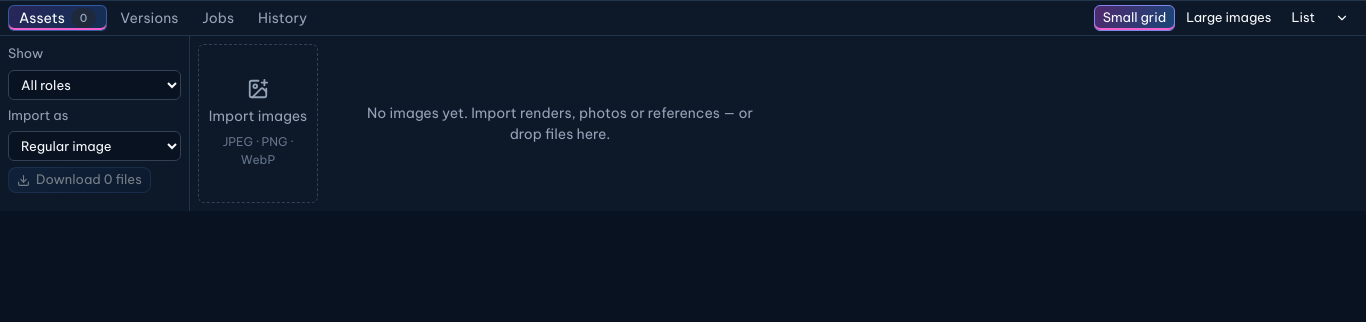
Test case: asset tray view preference › switches the tray between thumbnail and list views
The image size is (1366, 322).
Click the button "List" at (1303, 18), box [1282,5,1324,31]
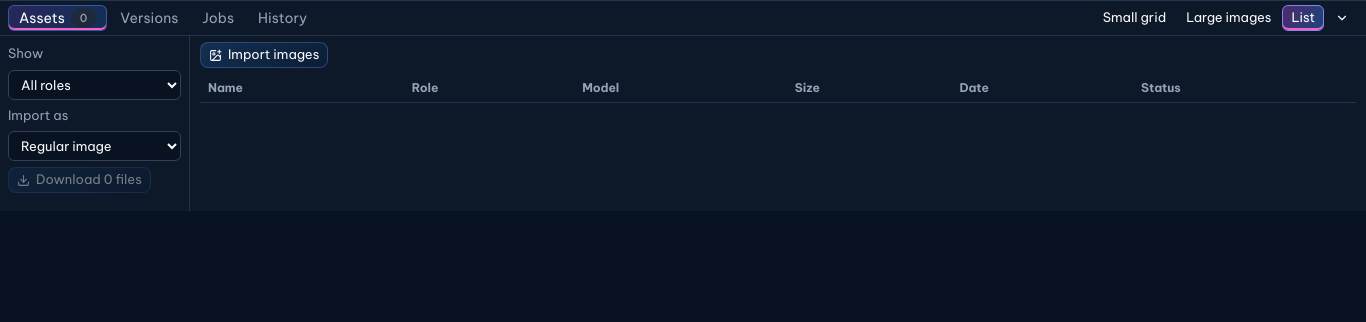
Expected: the table named "Project assets" is shown, [200,74,1356,103]
Expected: the column heading "Name" is shown, [200,74,404,102]
Expected: the column heading "Role" is shown, [404,74,574,102]
Click the button "Large images" at (1229, 18), box [1177,5,1280,31]
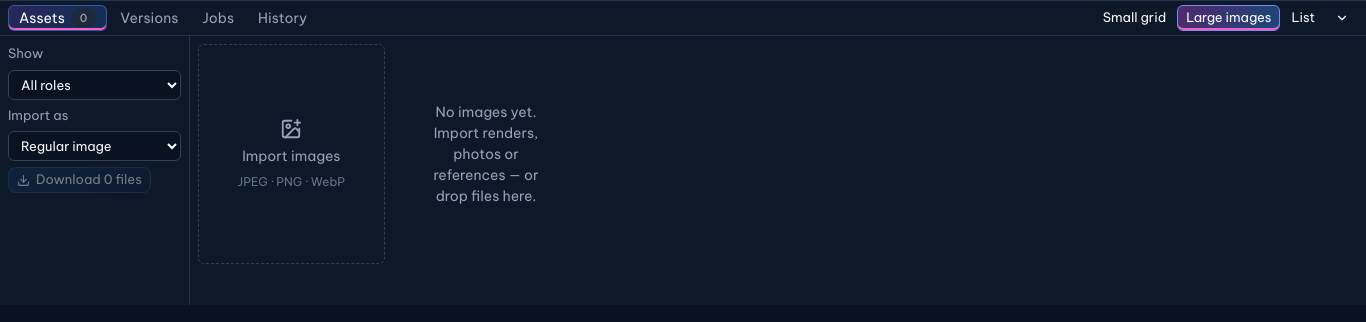
Expected: the table is gone
